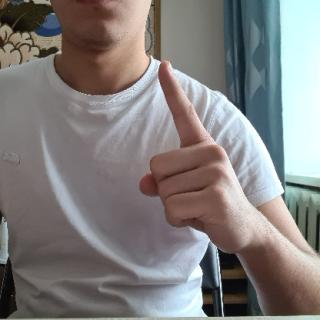RAA: (131, 56, 269, 264)
